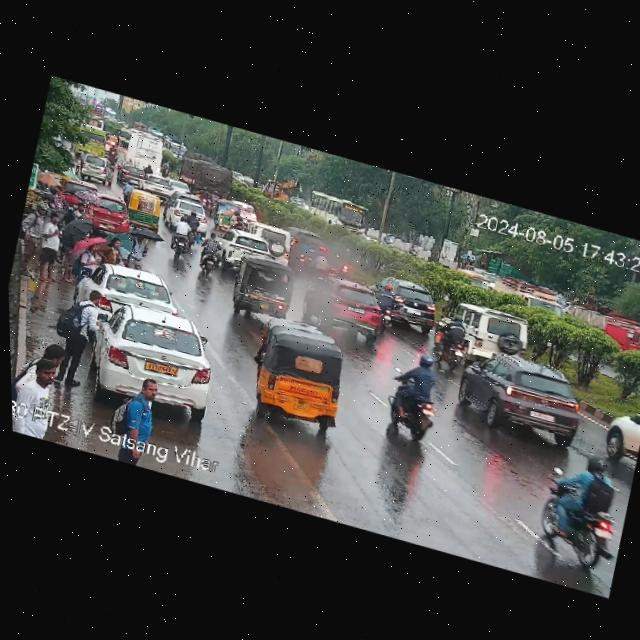bus: (299, 187, 376, 238), (110, 123, 178, 179), (71, 119, 110, 156)
car: (76, 290, 233, 421), (241, 312, 366, 444), (443, 344, 588, 453), (295, 265, 391, 345), (81, 255, 188, 323), (451, 297, 538, 371), (224, 250, 303, 327), (591, 393, 640, 475), (372, 274, 440, 332), (210, 225, 278, 280), (494, 274, 574, 318), (283, 223, 333, 269), (214, 225, 275, 260), (85, 195, 134, 237), (244, 219, 295, 259), (121, 186, 162, 233), (601, 312, 640, 361), (166, 194, 211, 235), (73, 151, 119, 186), (140, 170, 196, 198), (78, 152, 115, 185), (137, 171, 177, 199), (213, 198, 239, 228), (160, 176, 195, 196), (118, 162, 143, 186)
motorcycle: (520, 448, 634, 581), (373, 344, 453, 447), (427, 310, 474, 368), (163, 213, 203, 262), (367, 279, 402, 332), (196, 234, 229, 284), (207, 190, 221, 211), (197, 185, 210, 207), (228, 209, 240, 228), (230, 215, 244, 231), (160, 161, 171, 178)
person: (56, 285, 106, 383), (114, 373, 164, 446), (16, 352, 67, 414), (12, 195, 51, 276), (32, 208, 68, 282), (67, 239, 103, 301), (26, 339, 73, 374), (125, 234, 150, 271), (59, 241, 79, 279), (104, 236, 127, 262), (44, 185, 64, 210), (119, 180, 131, 201), (74, 204, 86, 218)
truck: (174, 148, 229, 191)
